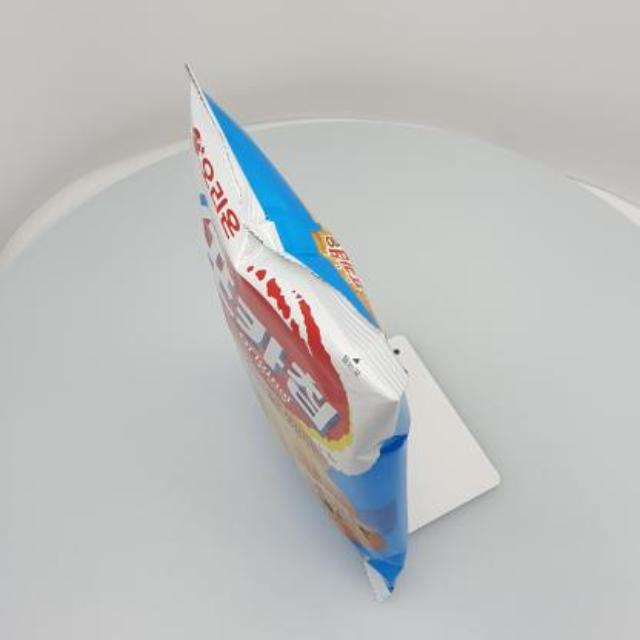snack_bag: (157, 44, 487, 616)
